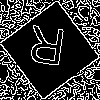R: (25, 25, 68, 75)
